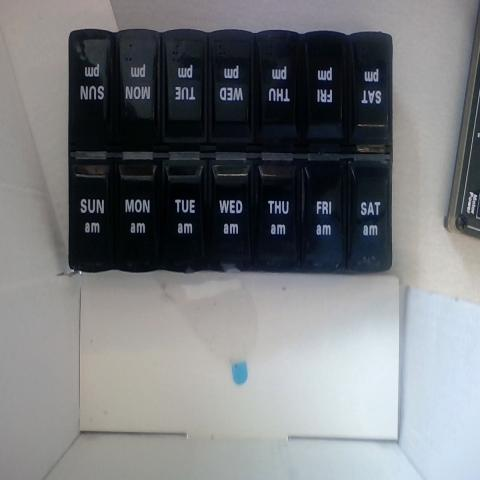FRI-am: (302, 156, 346, 271)
FRI-pm: (305, 36, 346, 144)
MON-am: (119, 152, 162, 268)
MON-pm: (117, 29, 159, 142)
SAT-am: (346, 150, 396, 272)
SAT-pm: (351, 35, 393, 150)
SUN-pm: (72, 158, 114, 271), (75, 29, 114, 141)
THU-am: (259, 153, 303, 266)
THU-pm: (260, 40, 302, 150)
TUE-am: (164, 152, 208, 268)
TUE-pm: (162, 33, 206, 142)
WED-am: (209, 156, 255, 269)
WED-pm: (215, 36, 255, 144)
